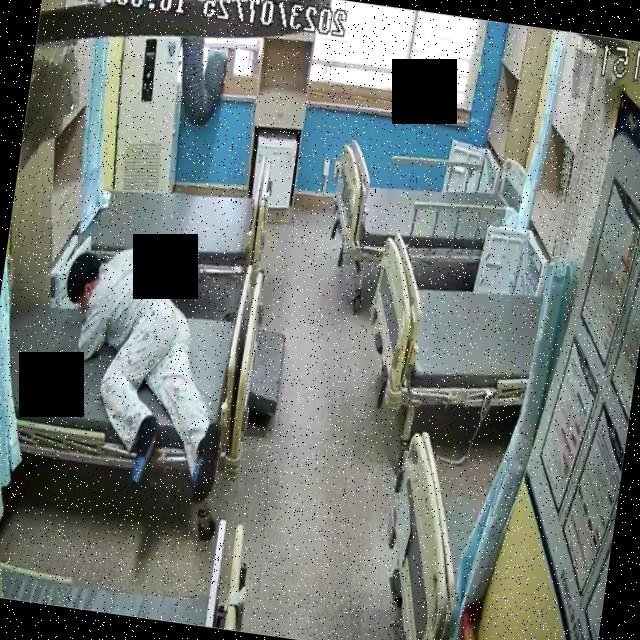bed: (0, 232, 270, 488), (71, 120, 276, 301), (358, 235, 544, 422), (328, 144, 511, 281)
danger: (45, 240, 243, 494)
patient: (40, 238, 246, 502)
